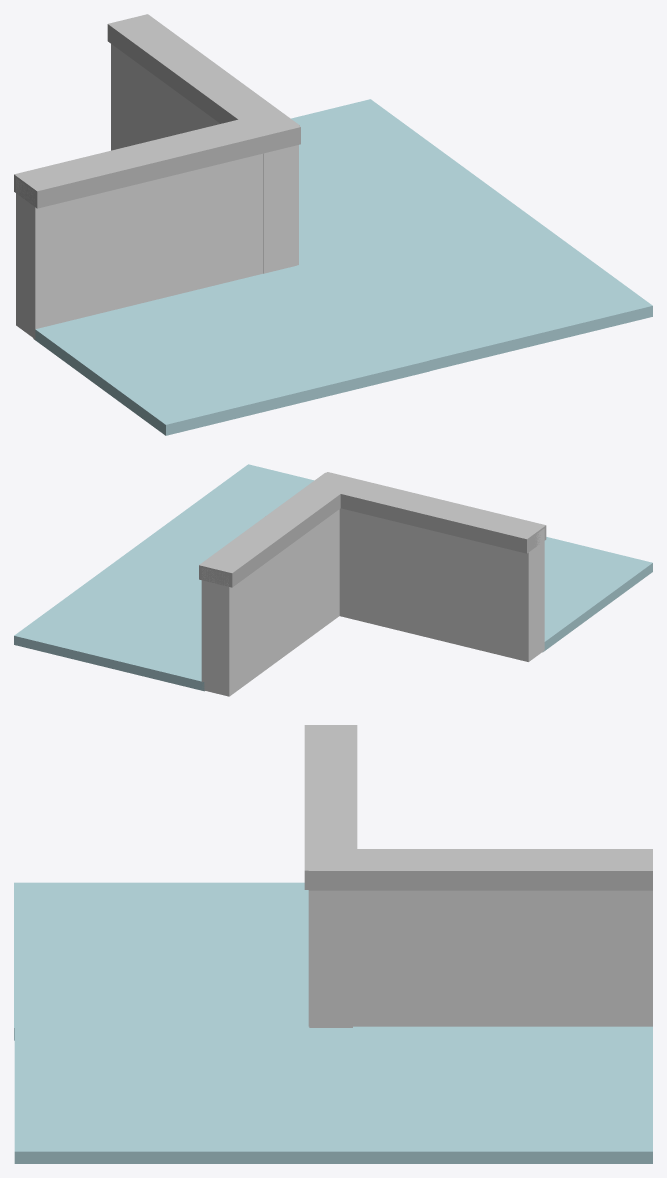
Rendered from props9.fbx.
The picture shows the model from 3 angles, top to bottom: view 1: azimuth 30°, elevation 25°; view 2: azimuth 150°, elevation 25°; view 3: azimuth 270°, elevation 25°; orthographic projection. The views are drawn at different scales.
Visible parts, largest first — view 1: Cube_7; view 2: Cube_7; view 3: Cube_7.
Boxes of the visible parts, <box> form: Cube_7: <box>14,14,652,435</box>; Cube_7: <box>14,464,652,696</box>; Cube_7: <box>14,725,652,1163</box>.
Bounding box in the file's own units: 1314 × 388 × 1320.
